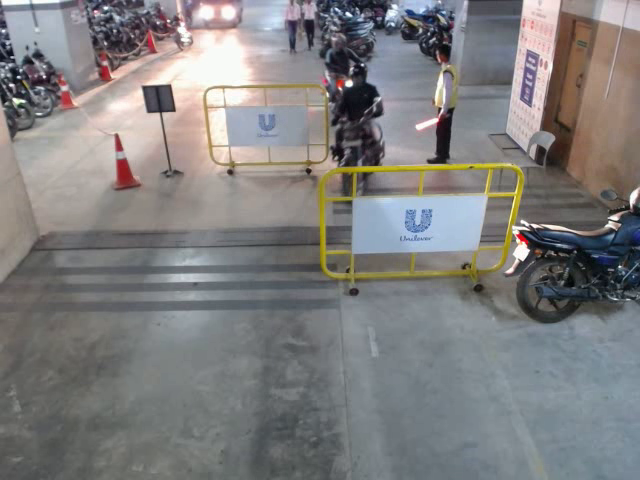with_helmet: (348, 62, 371, 88)
